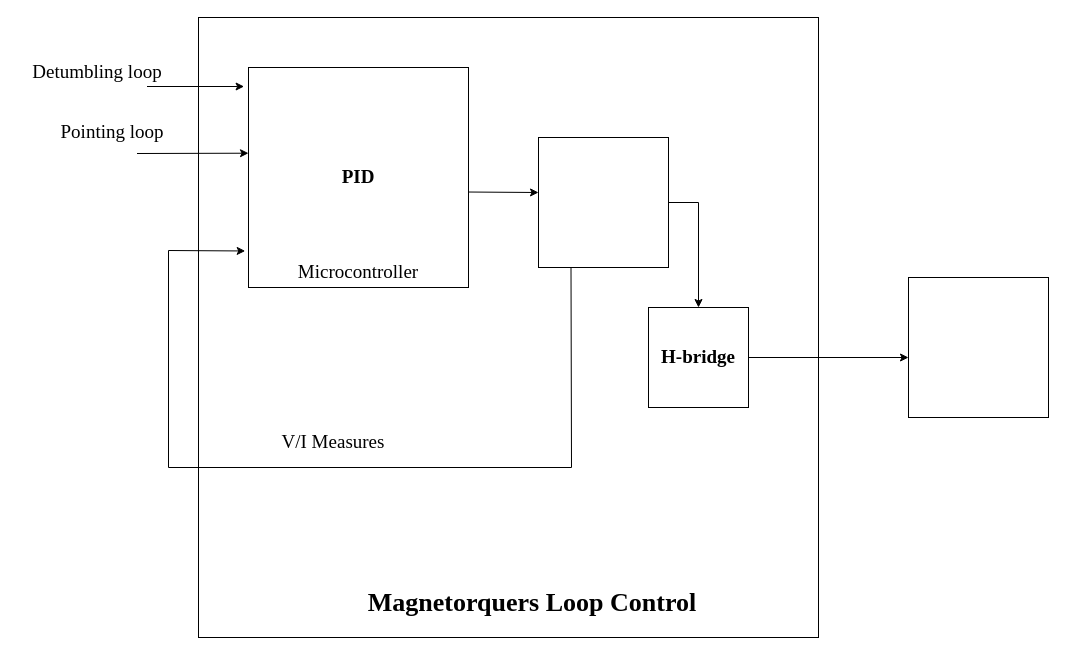
Some shapes in this 1066 by 655 pixel diagram are drawn without their labels. Here are the shapes that lost their labels. From the top down, the centre of each, then its label:
pixel 603 202: Voltage and Current Sensors (V/I)
pixel 978 347: Actuators
